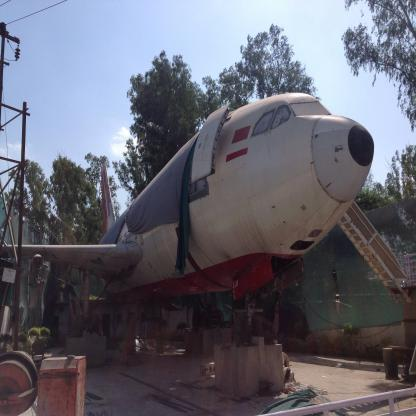CIV_Plane: (8, 90, 386, 332), (6, 86, 8, 96)
